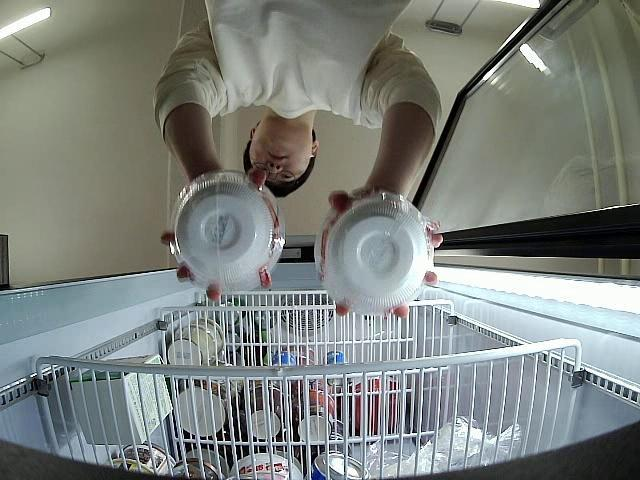09_yukGaeJang: (312, 193, 430, 316), (174, 174, 286, 293)
